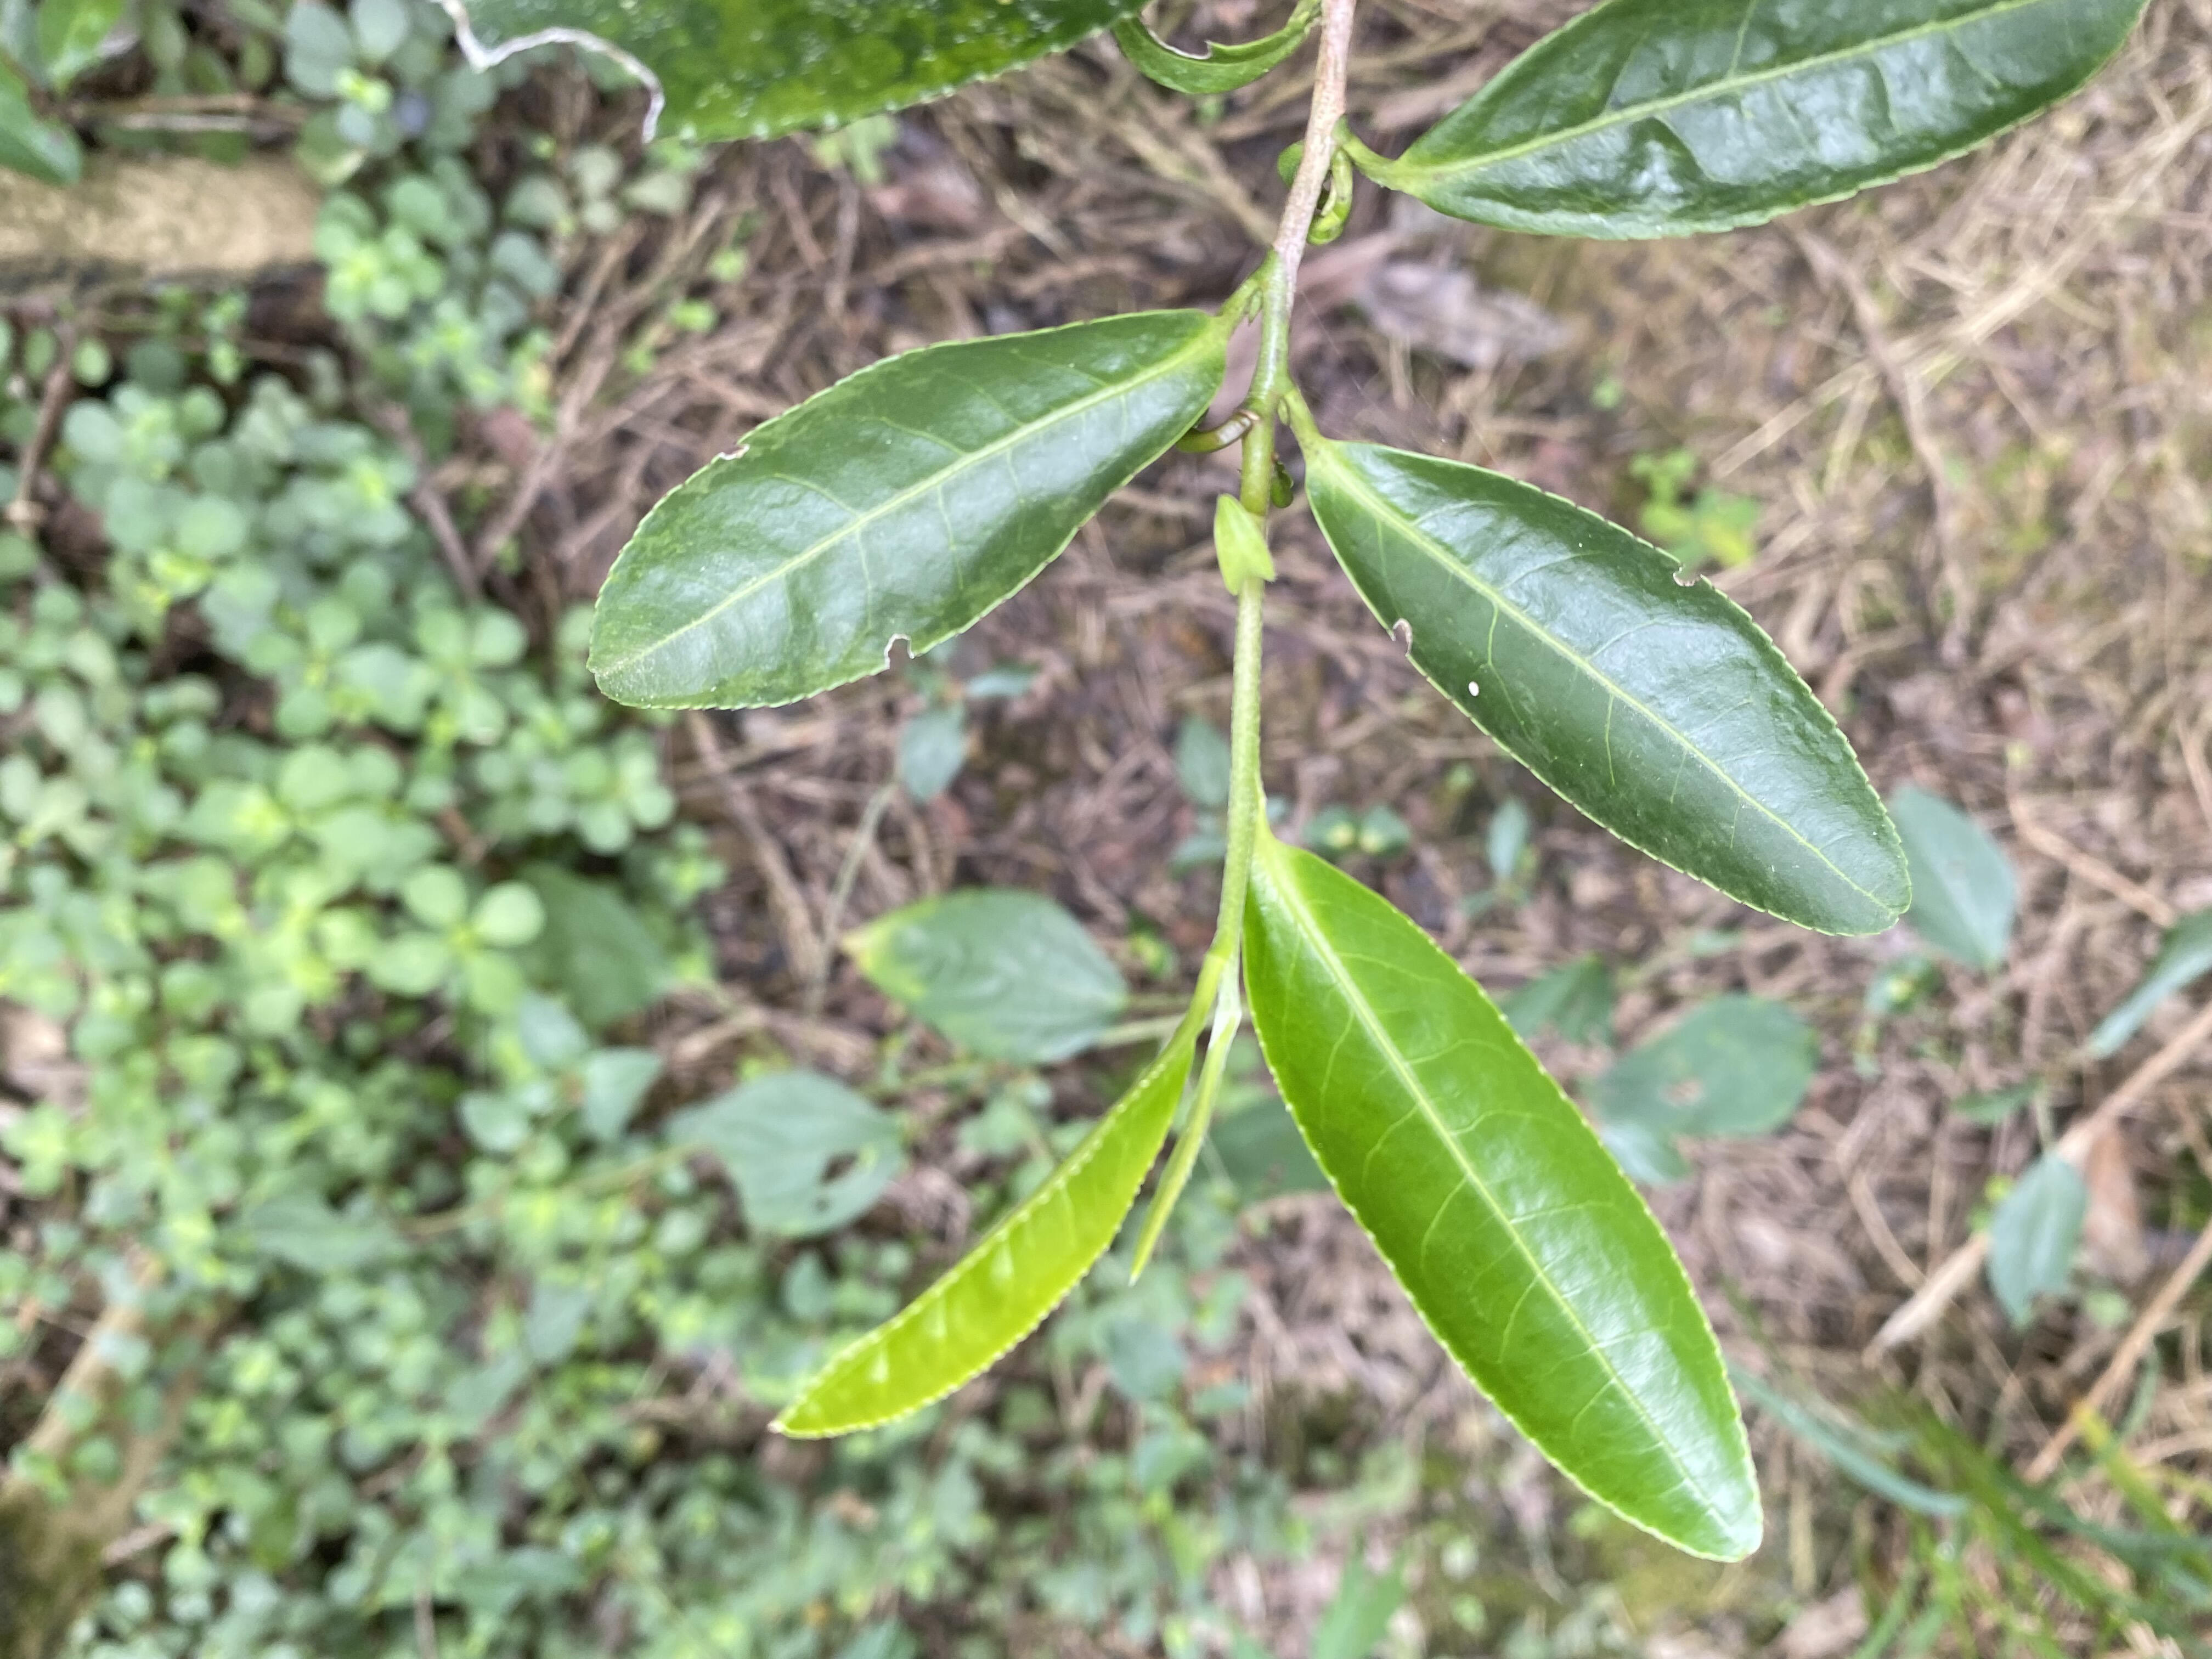chihuo_high: (1303, 439, 1911, 941), (585, 308, 1230, 714)
healthy: (1245, 845, 1764, 1561), (761, 1018, 1198, 1438), (1392, 2, 2149, 240)
